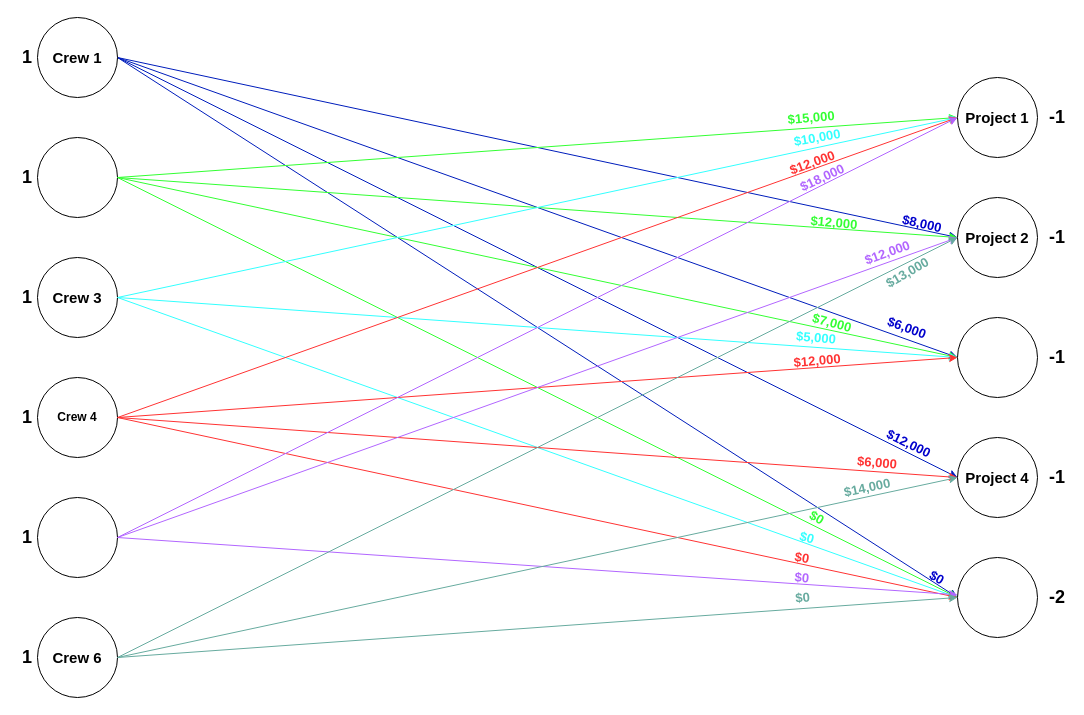
Image size: 1084x715. Some labels were removed from this diagram. The centre of each missing label's shape, as x and y in pixels:
"Crew 2" goes at (77,177).
"Crew 5" goes at (77,537).
"Dummy" goes at (997,597).
"Project 3" goes at (997,357).
